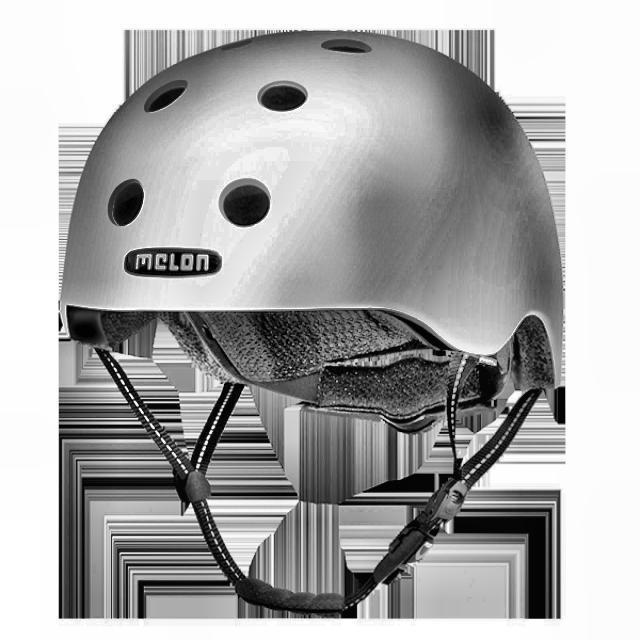Helmet: (55, 25, 579, 627)
